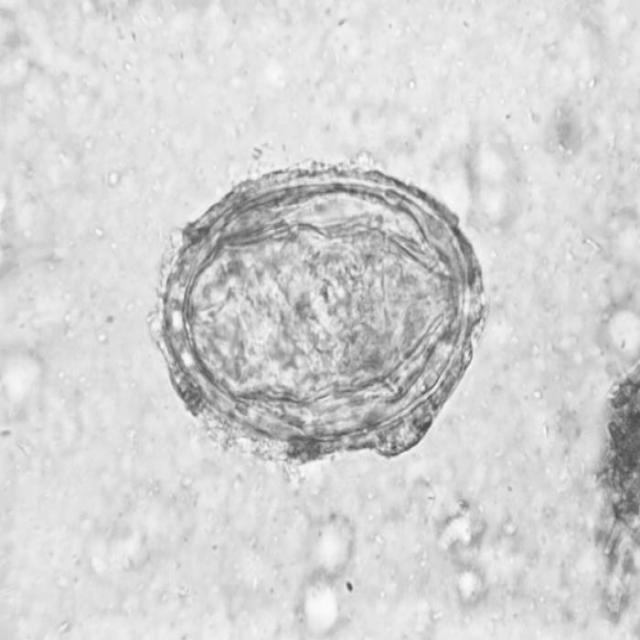Schistosoma: (153, 152, 486, 473)
